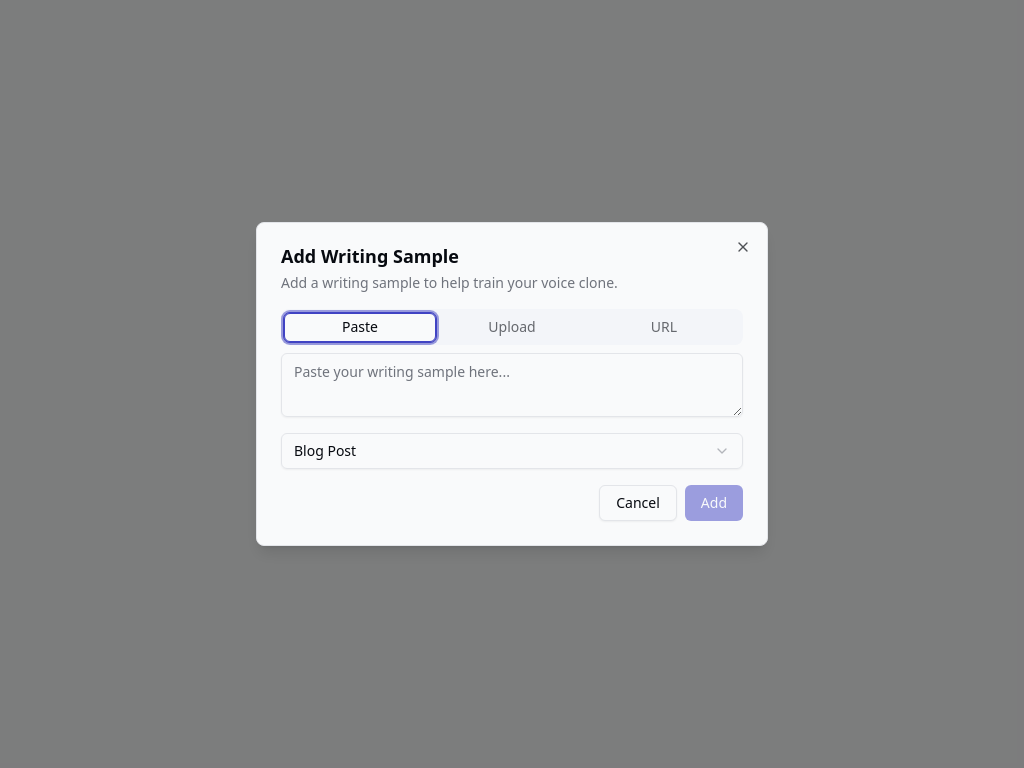
Scenario: AddSampleDialog › switches to URL tab
Click the tab "URL": {"x": 664, "y": 327} top-left (588, 312), bottom-right (740, 342)
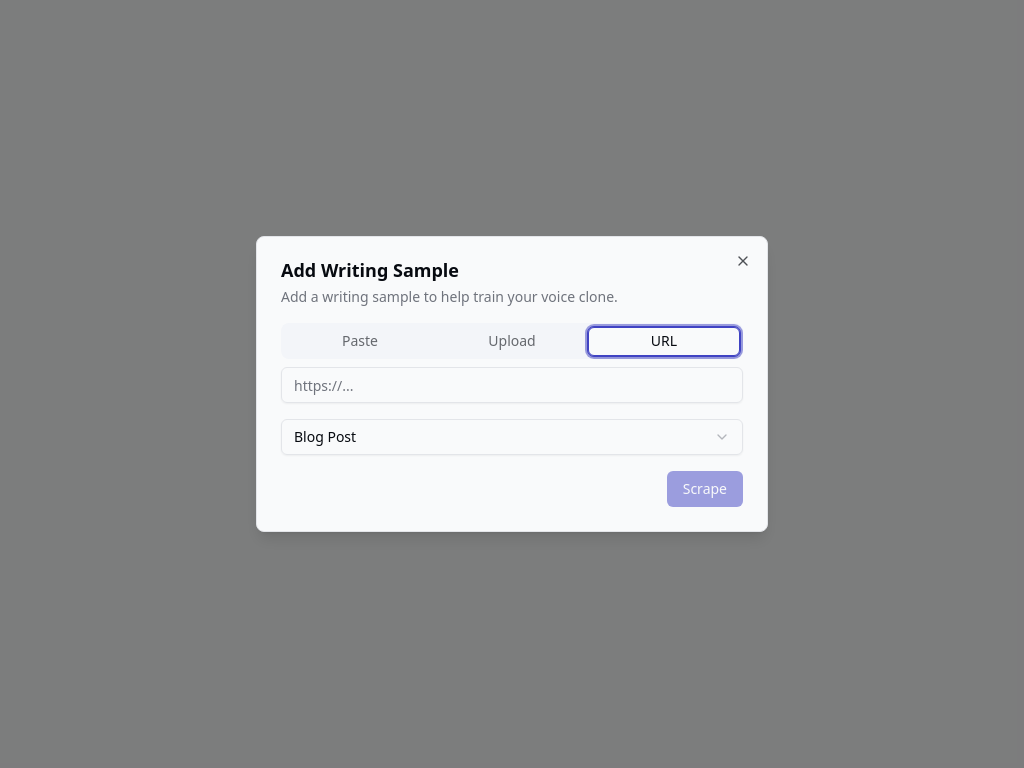
expect the field with placeholder "https://..." is shown: met, box top-left (281, 367), bottom-right (743, 403)
